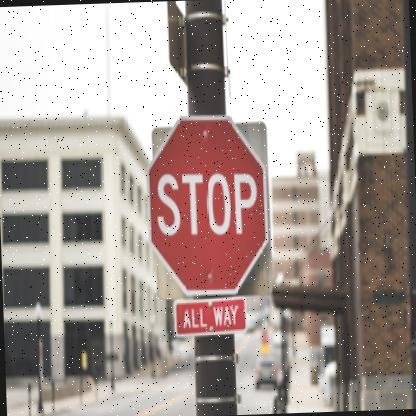stop: (140, 112, 270, 298)
